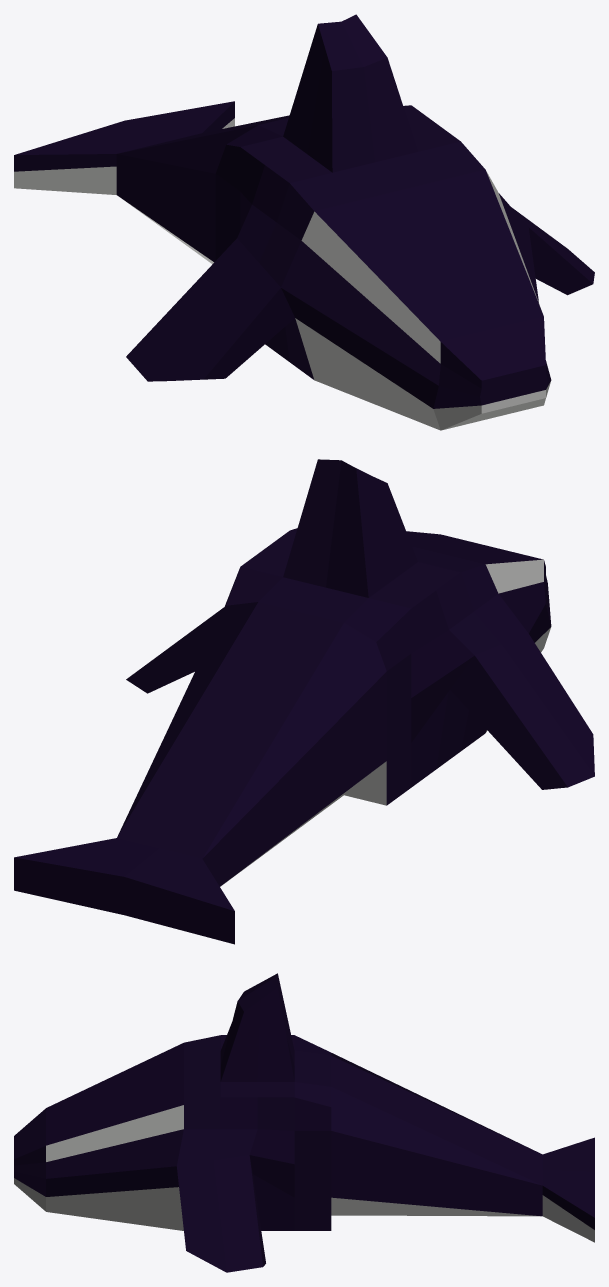
The model's file is Orca.fbx.
The picture shows the model from 3 angles, top to bottom: view 1: azimuth 30°, elevation 25°; view 2: azimuth 150°, elevation 25°; view 3: azimuth 270°, elevation 25°; orthographic projection. The views are drawn at different scales.
Visible parts, largest first — view 1: Orca; view 2: Orca; view 3: Orca.
Part boxes in pixels (bbox=[...]): Orca: bbox=[14, 14, 594, 430]; Orca: bbox=[14, 459, 594, 944]; Orca: bbox=[14, 973, 594, 1272].
Bounding box in the file's own units: 523 × 333 × 788.
